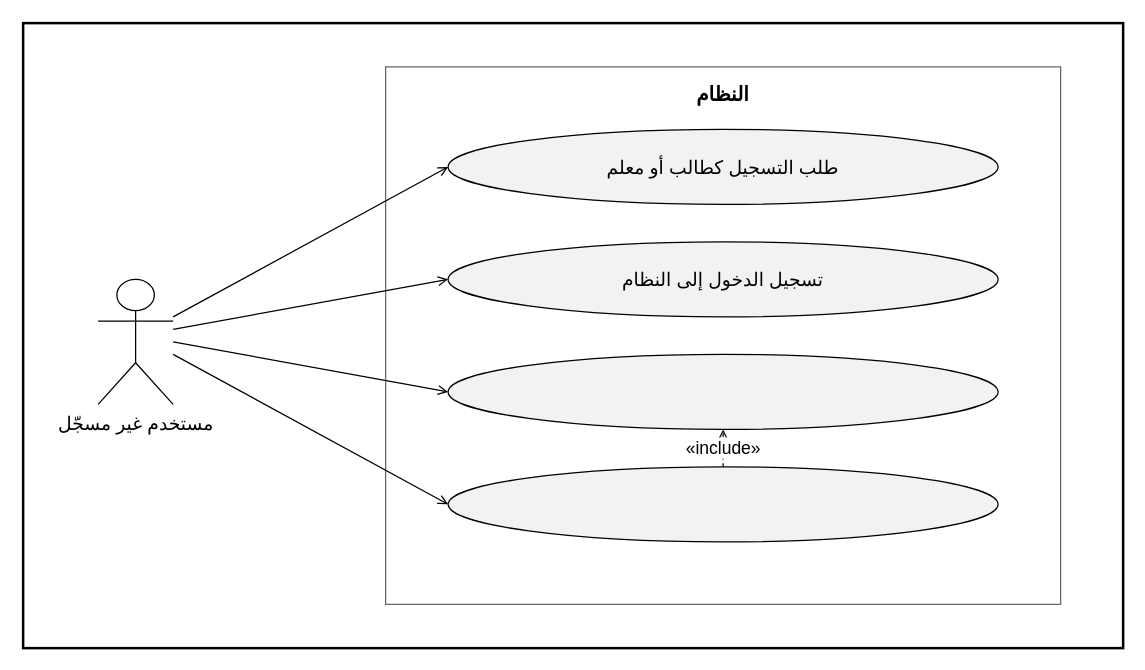
Image size: 1145x670. Some labels were removed from this diagram. The shapes that lost their labels are listed below. From the top down, each one's centre as x and y in pixels, then its label:
At (x=722, y=391): "طلب رمز إعادة تعيين كلمة المرور".
At (x=722, y=504): "إعادة تعيين كلمة المرور".
